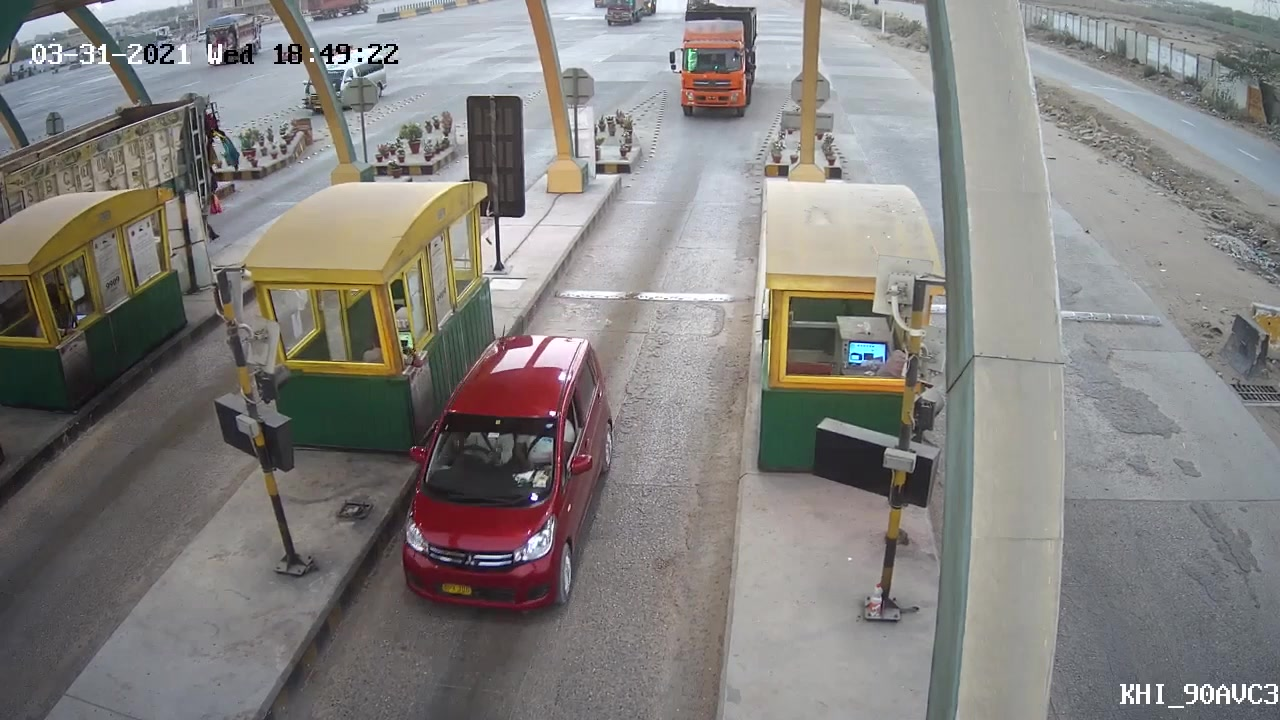F1: (375, 325, 633, 630)
